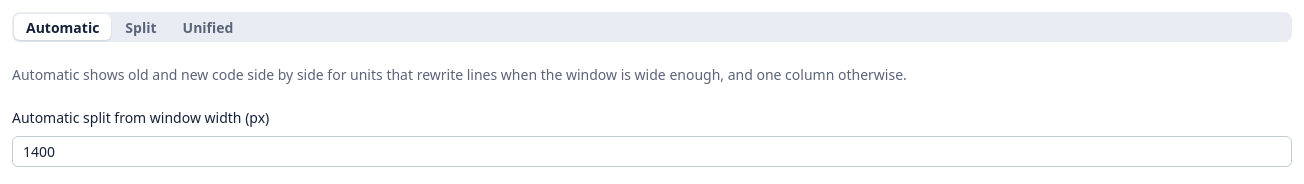
DiffLayoutPanel › saves the Automatic threshold when the field is left, not while typing
Replace the text in the number field labelled "Automatic split from window width (px)" with "8": (652, 152) [12,136,1292,167]
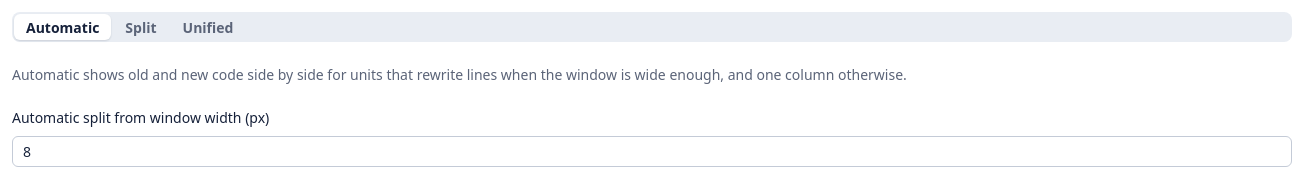
Replace the text in the number field labelled "Automatic split from window width (px)" with "80": (652, 152) [12,136,1292,167]
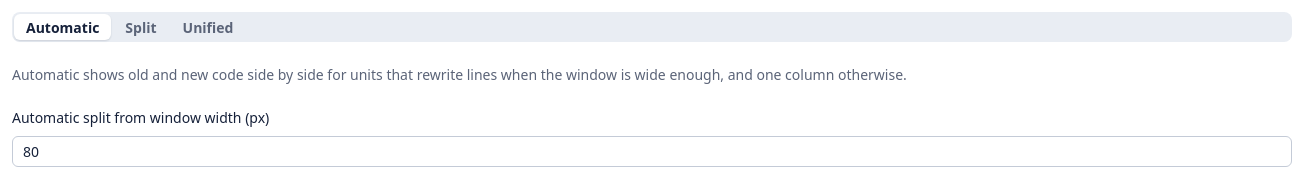
Replace the text in the number field labelled "Automatic split from window width (px)" with "800": (652, 152) [12,136,1292,167]
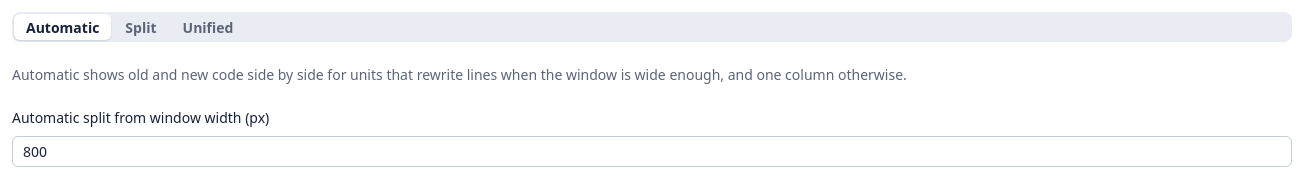
Replace the text in the number field labelled "Automatic split from window width (px)" with "8000": (652, 152) [12,136,1292,167]
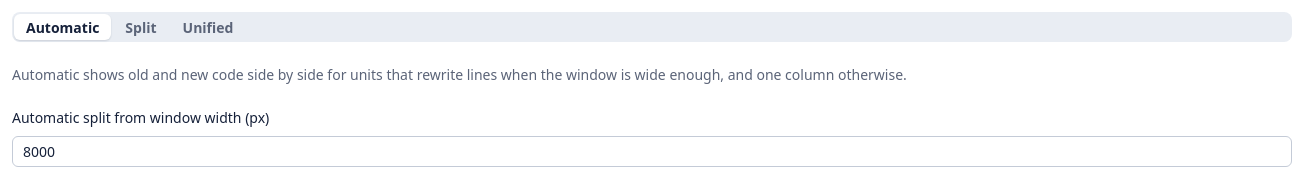
Leave the number field labelled "Automatic split from window width (px)", box [12,136,1292,167]
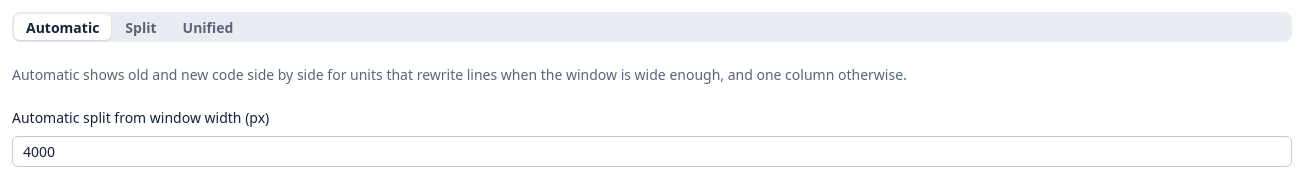
Result: the number field labelled "Automatic split from window width (px)" holds "4000" at [12,136,1292,167]
